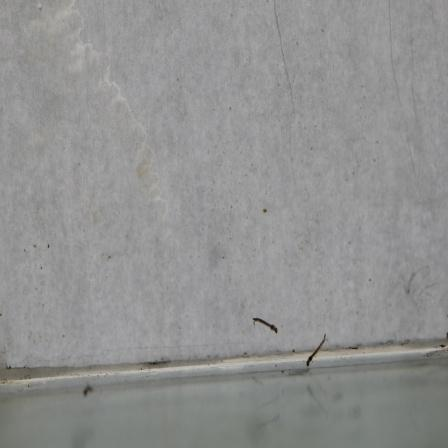Jentik-Nyamuk: (304, 333, 329, 371), (249, 314, 281, 340)
